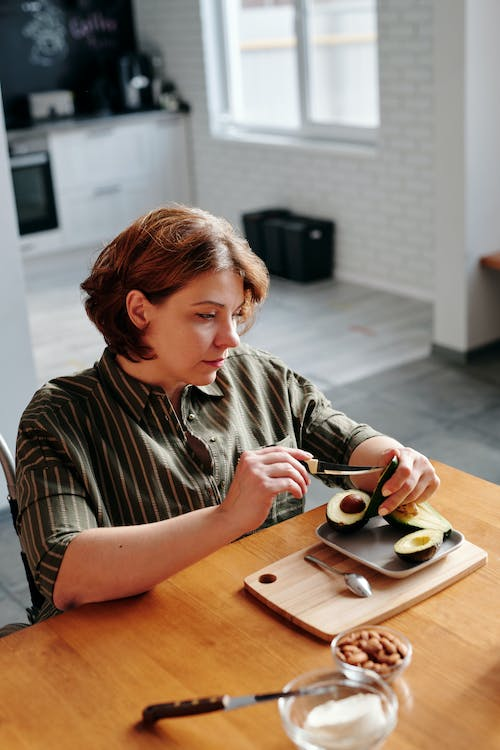knife: (297, 457, 391, 477)
